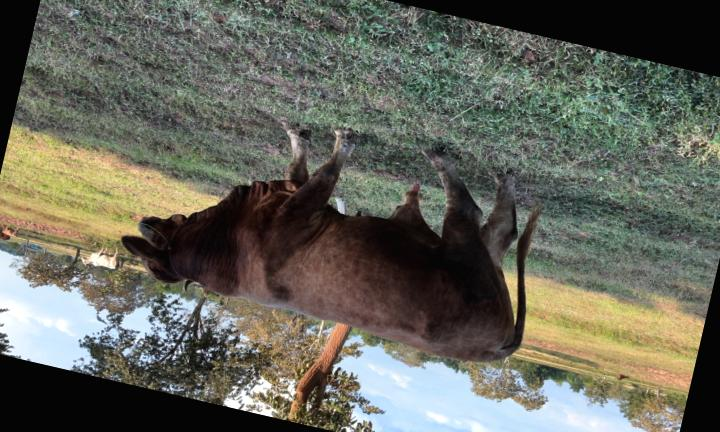Charolais: (122, 126, 539, 361)
